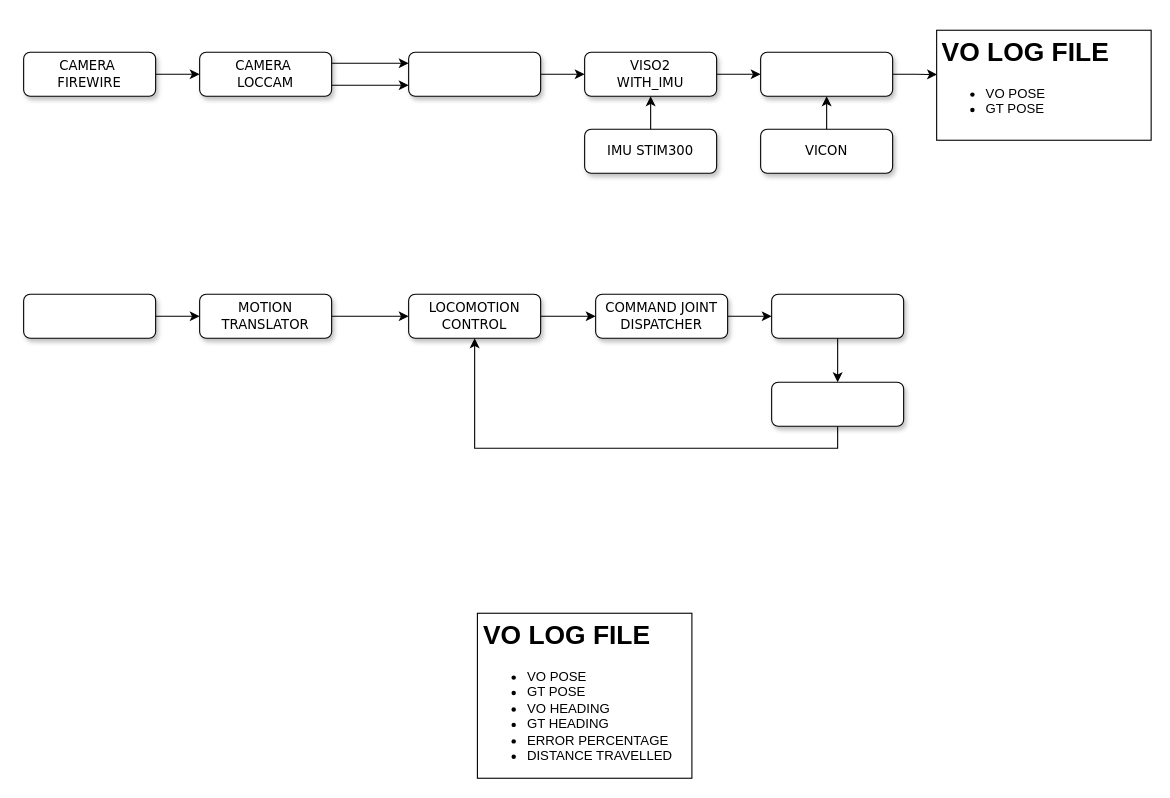
Some shapes in this 1170 by 798 pixel diagram are drawn without their labels. Here are the shapes that lost their labels. From the top down, the centre of each, then its label:
At [475,75]: "VISUAL ODOMETRY".
At [827,75]: "VISO2 EVALUATION".
At [90,317]: "JOYSTICK".
At [838,317]: "PLATFORM DRIVER".
At [838,405]: "READ JOINTS DISPATCHER".
